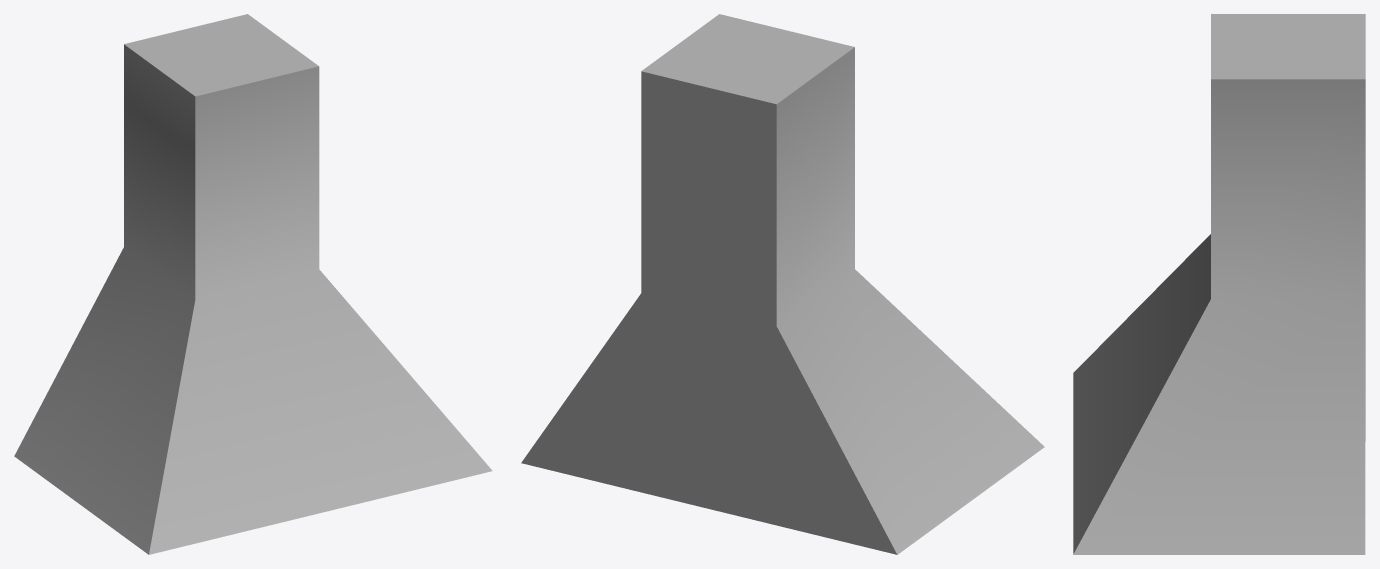
The model's file is StoveHood.fbx.
3 views of the same model, side by side, from view 1: azimuth 30°, elevation 25°; view 2: azimuth 150°, elevation 25°; view 3: azimuth 270°, elevation 25° (orthographic). The views are drawn at different scales.
Visible parts, largest first — view 1: StoveHoodBO_OBJ; view 2: StoveHoodBO_OBJ; view 3: StoveHoodBO_OBJ.
Part boxes in pixels (x1,y1,x2,y2): StoveHoodBO_OBJ: (14, 14, 492, 554); StoveHoodBO_OBJ: (521, 14, 1044, 554); StoveHoodBO_OBJ: (1073, 14, 1365, 554).
Size of the model in its own units: 82.02 by 87.75 by 55.77.
1 material, 1 textured.
